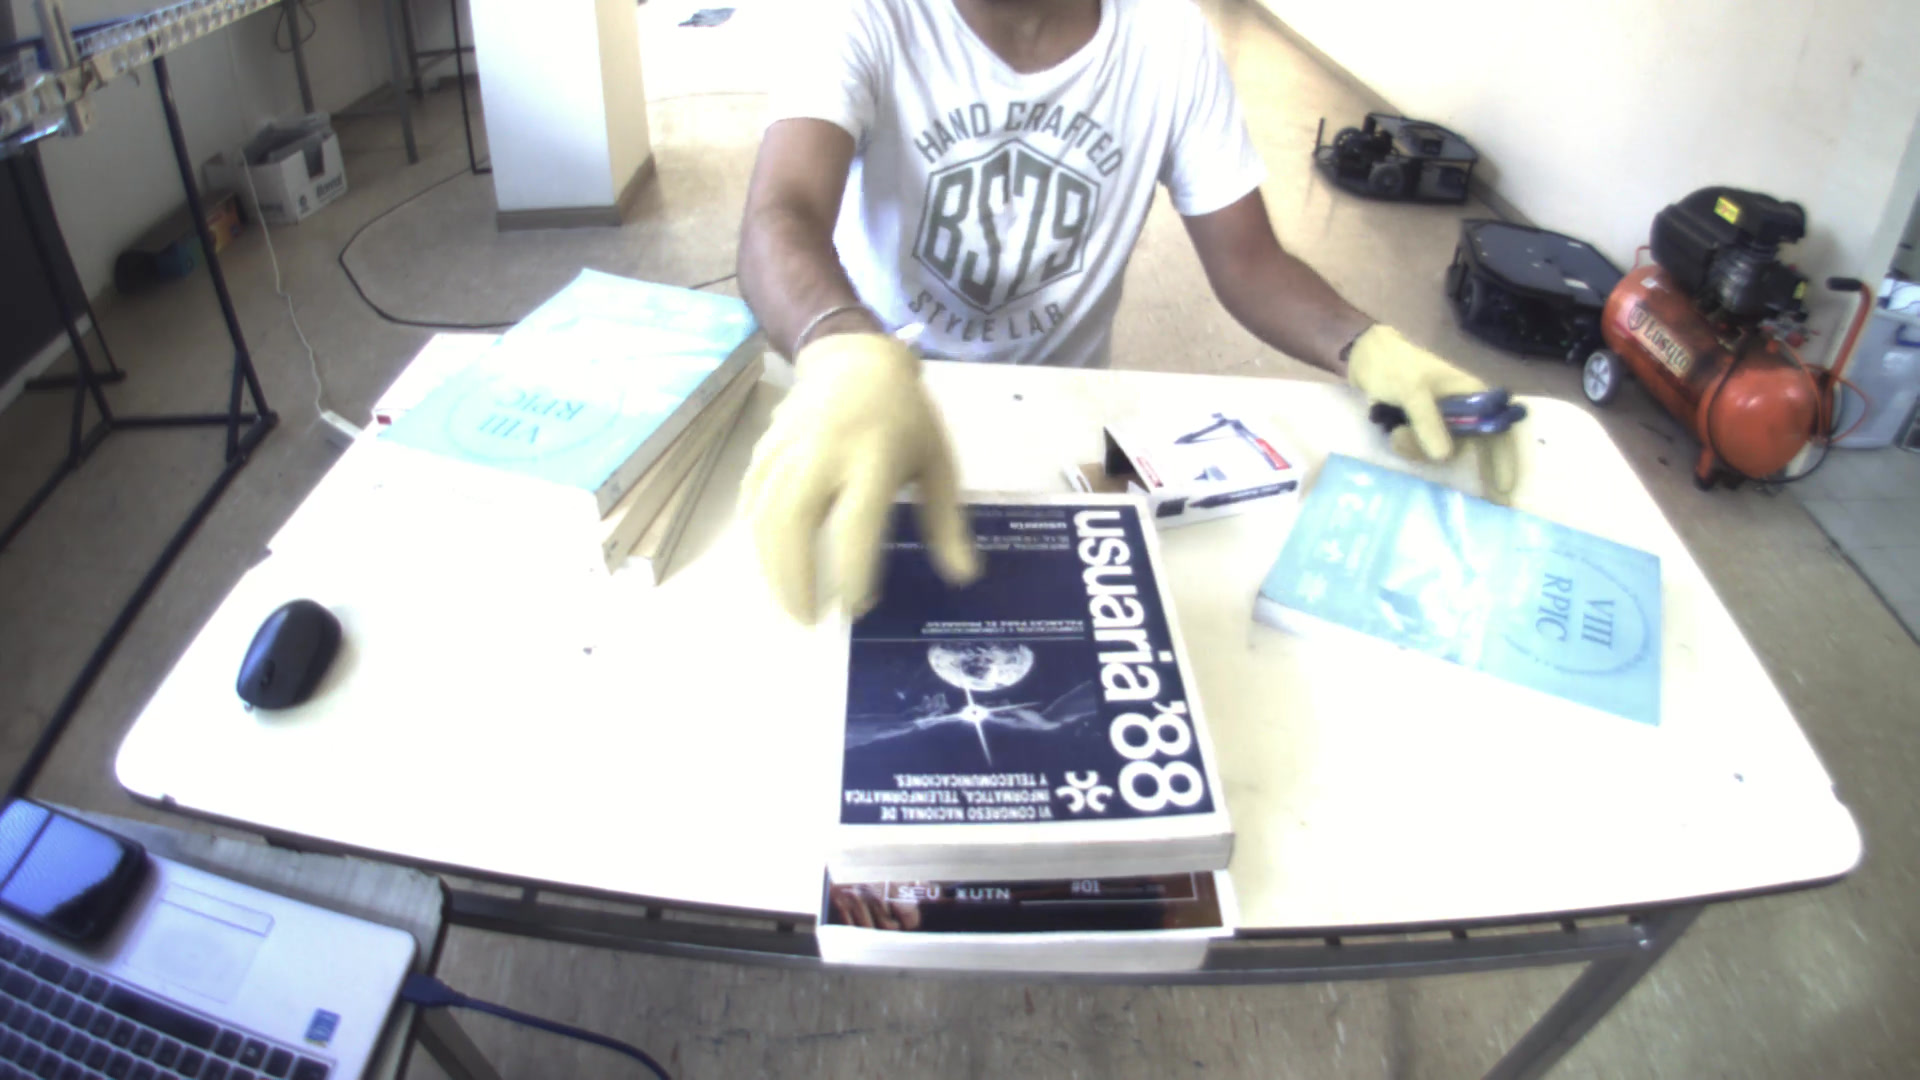hand: (733, 315, 982, 622), (1342, 313, 1528, 512)
